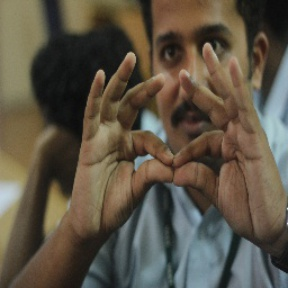B: (109, 115, 244, 219)
